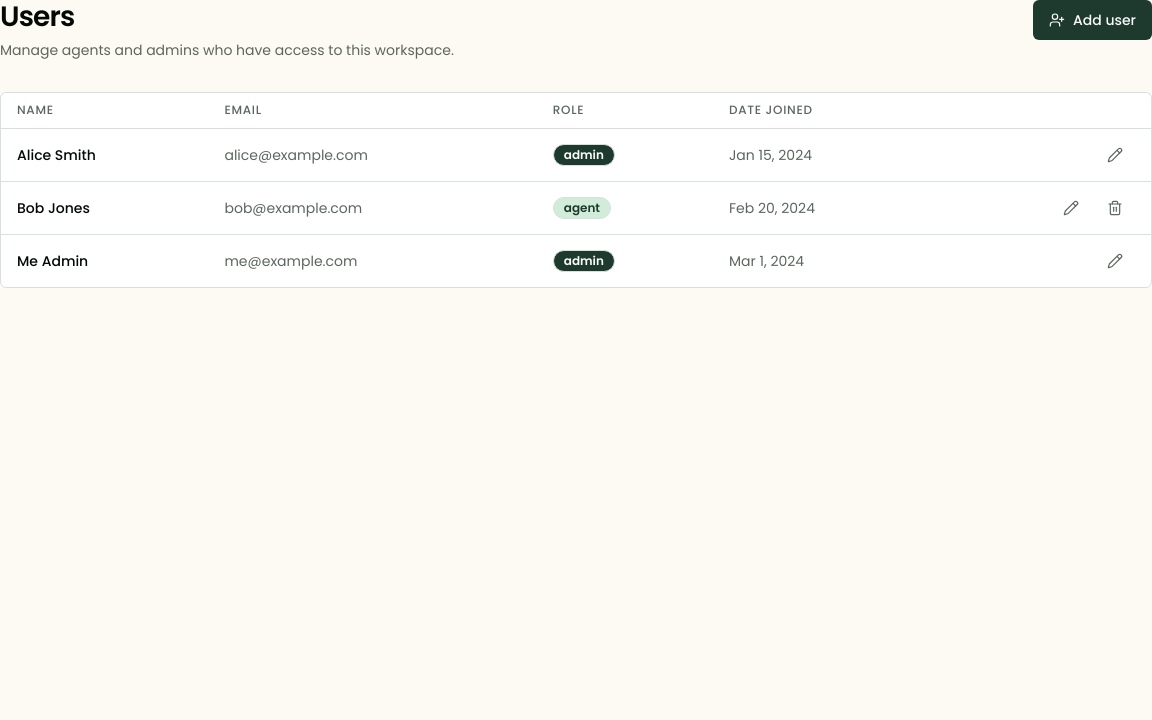
Scenario: UsersPage — add user dialog › opens the dialog when "Add user" is clicked
The image size is (1152, 720).
Expected: the text "Alice Smith" is shown, [1,129,208,182]
Click the button "Add user": x=1092, y=20 [1033,0,1151,40]
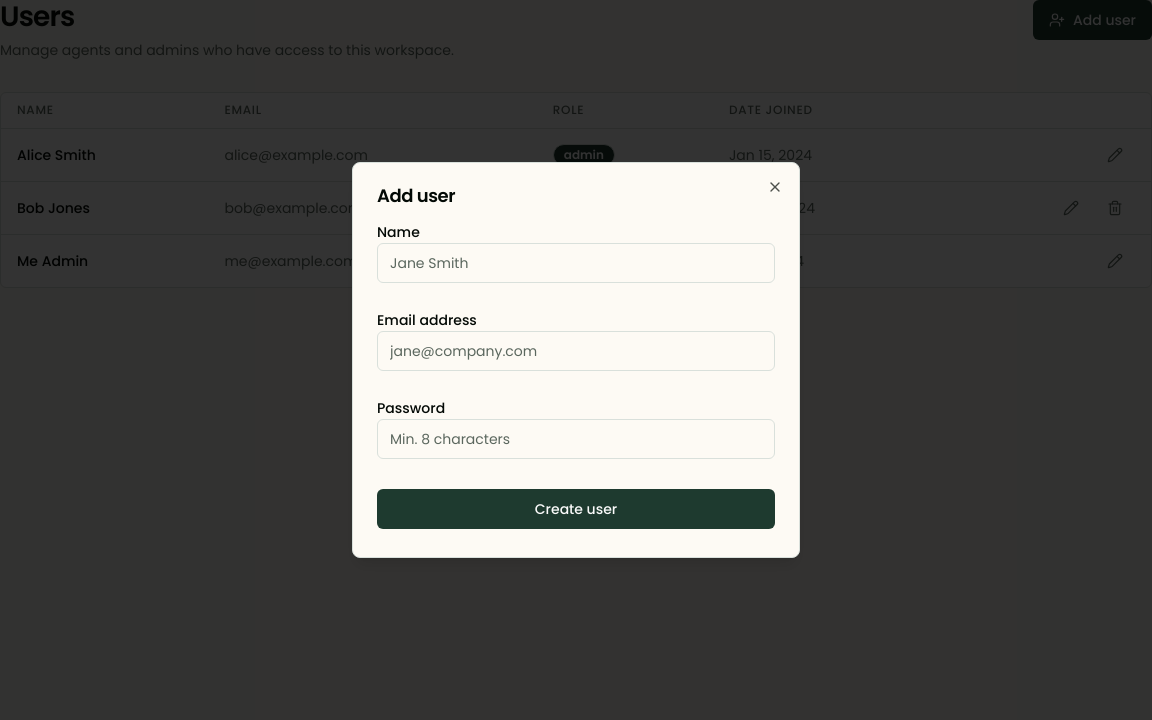
Now the dialog is shown, box [352,162,800,558]
Now the heading "Add user" is shown, box [377,183,455,208]
